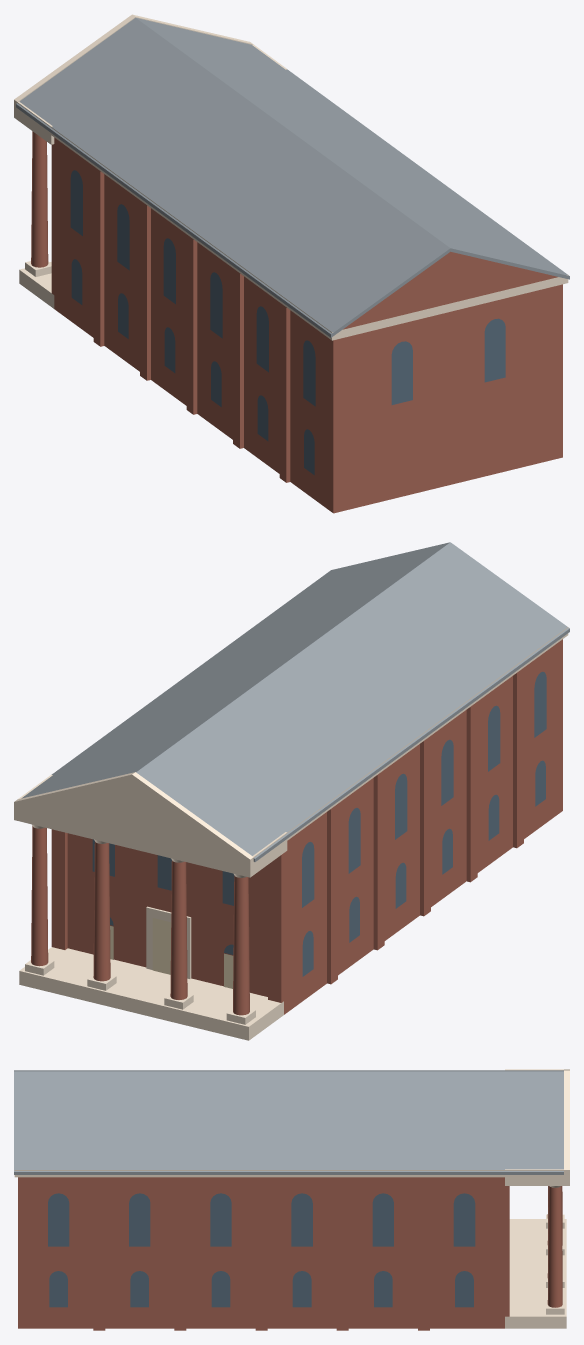
File: cola-first-baptist-church.glb
3 views of the same model, one above another, from view 1: azimuth 30°, elevation 25°; view 2: azimuth 150°, elevation 25°; view 3: azimuth 270°, elevation 25° (orthographic). The views are drawn at different scales.
Visible parts, largest first — view 1: First Baptist Church; view 2: First Baptist Church; view 3: First Baptist Church.
Part boxes in pixels (left/top/right/bottom): First Baptist Church: left=14, top=14, right=569, bottom=513; First Baptist Church: left=14, top=542, right=569, bottom=1040; First Baptist Church: left=14, top=1069, right=569, bottom=1330.
Size of the model in its own units: 18 by 17.25 by 41.55.
